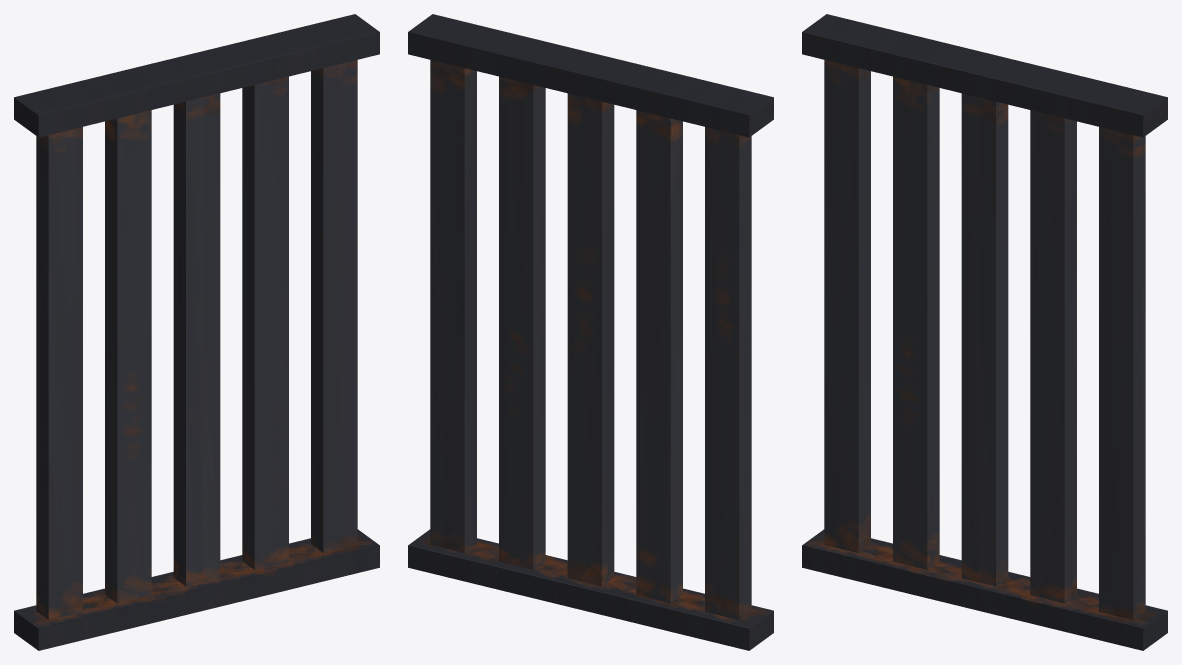
File: JailBars_Mod.FBX
3 views of the same model, side by side, from view 1: azimuth 30°, elevation 25°; view 2: azimuth 150°, elevation 25°; view 3: azimuth 330°, elevation 25° (orthographic).
Visible parts, largest first — view 1: JailBars; view 2: JailBars; view 3: JailBars.
Part boxes in pixels (x1=…): JailBars: x1=14, y1=14, x2=379, y2=650; JailBars: x1=408, y1=14, x2=773, y2=650; JailBars: x1=802, y1=14, x2=1167, y2=650.
Size of the model in its own units: 78.74 by 118 by 9.84.
1 material, 1 textured.
